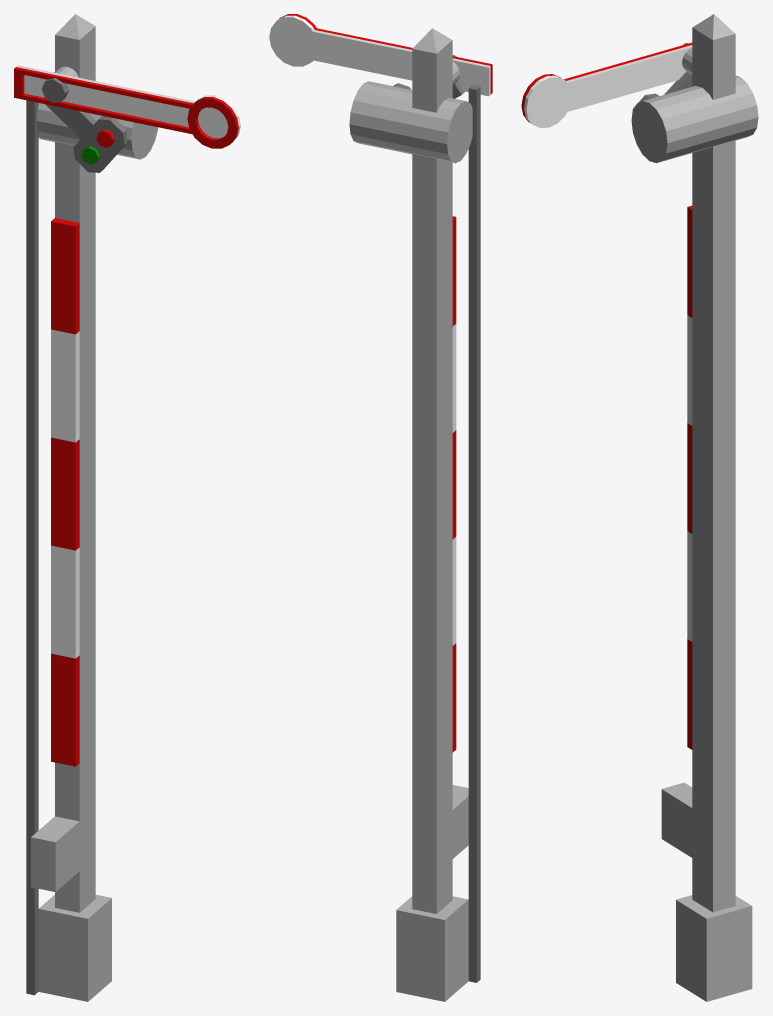
Rendered from GMLID_6162422_289094_1279.gltf.
3 views of the same model, side by side, from view 1: azimuth 30°, elevation 25°; view 2: azimuth 210°, elevation 25°; view 3: azimuth 270°, elevation 25° (orthographic).
Parts seen in each view (by area): view 1: Z_UP; view 2: Z_UP; view 3: Z_UP.
Part boxes in pixels (x1,y1,x2,y2): Z_UP: (14,14,240,1001); Z_UP: (269,14,492,1001); Z_UP: (521,14,758,1001).
Bounding box in the file's own units: 1.98 × 14.04 × 3.11.
